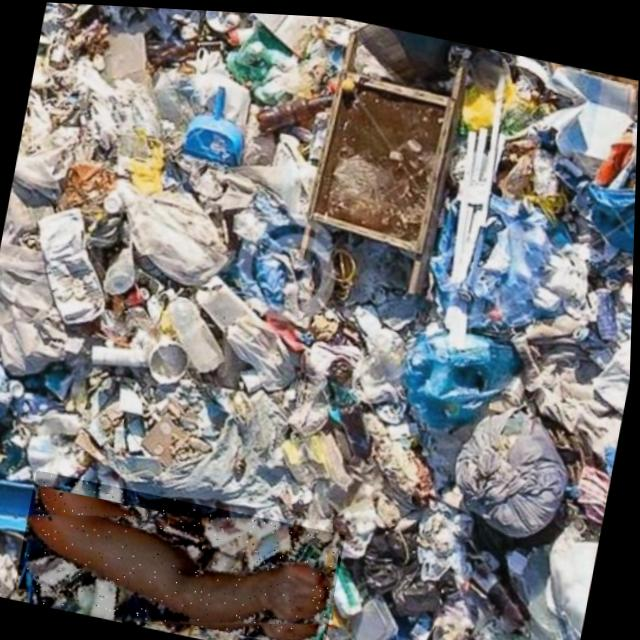Person in Rubble: (15, 468, 350, 640)
